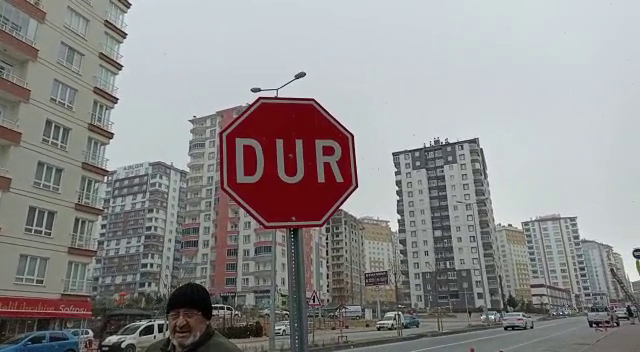stop: (218, 95, 361, 231)
